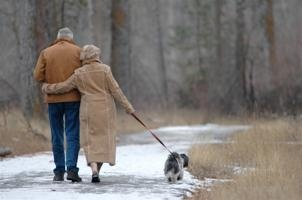person without safety: (35, 24, 81, 181), (78, 43, 120, 181)
